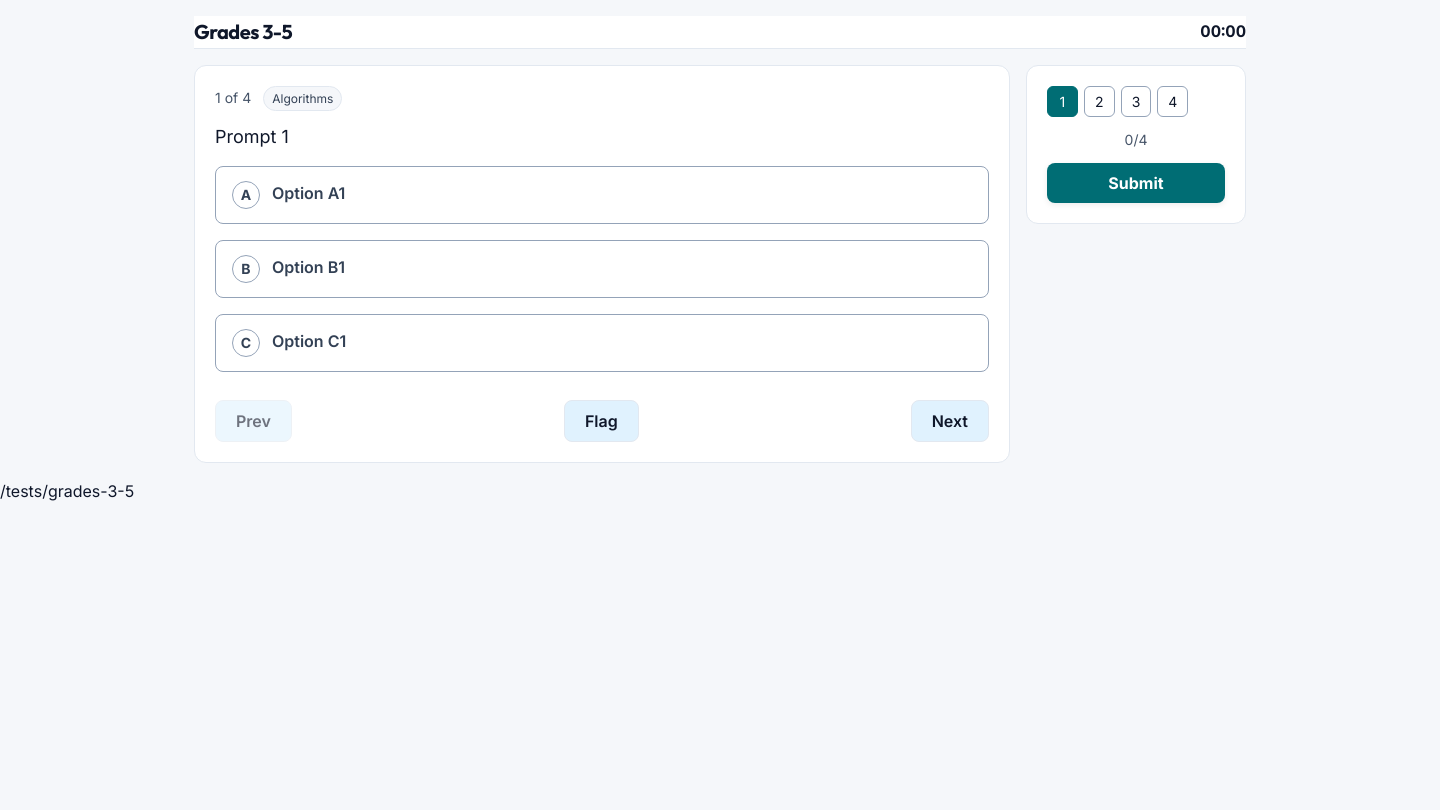
Test: TakeTest › submit › shows the expired line when the submit is refused as late
Expected: the text "Prompt 1" is shown, [215,126,289,147]
Step 1. Click the button "Submit" → coordinates (1136, 183), box [1047,163,1225,203]
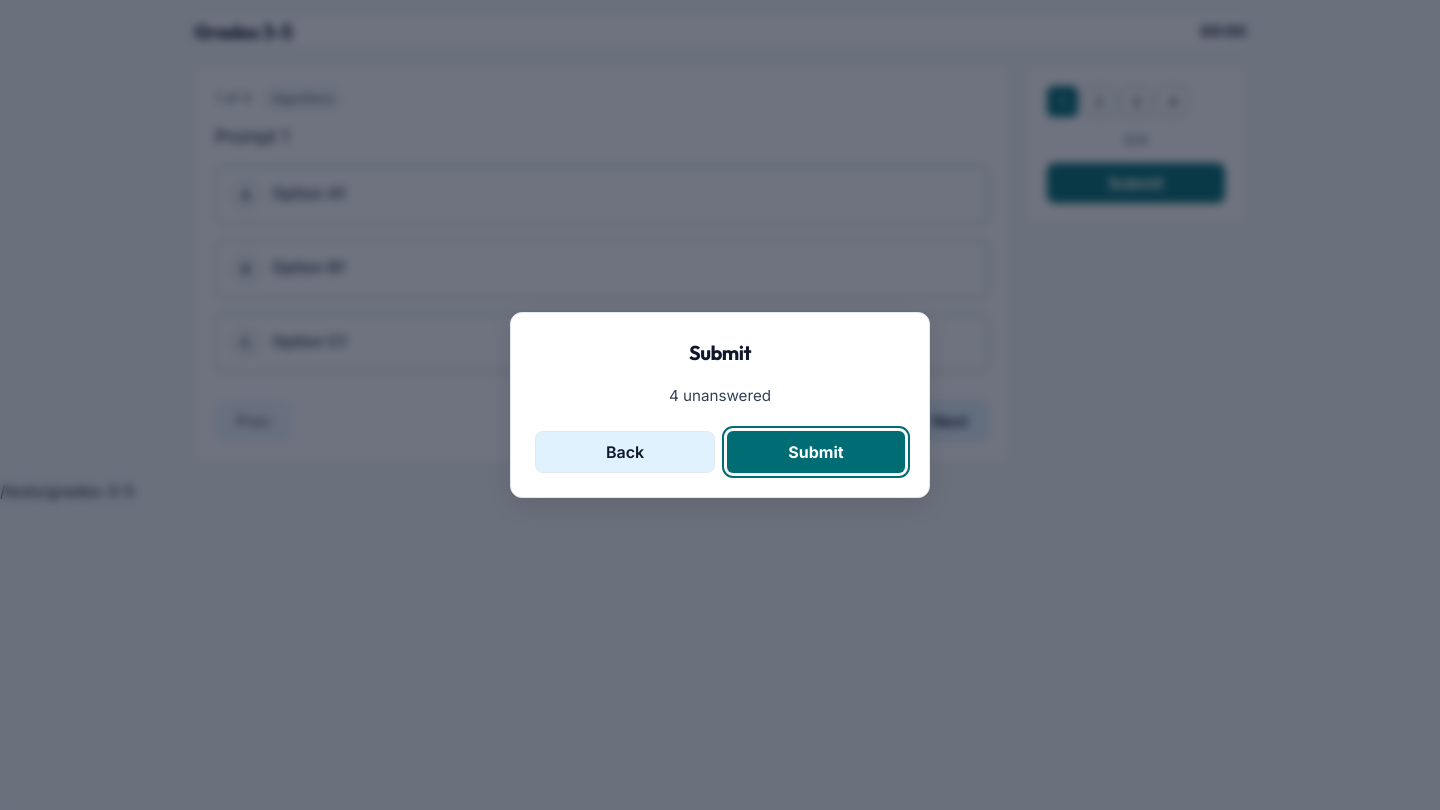
Step 2. Click the button "Submit" → coordinates (816, 452), box [727,431,905,473]
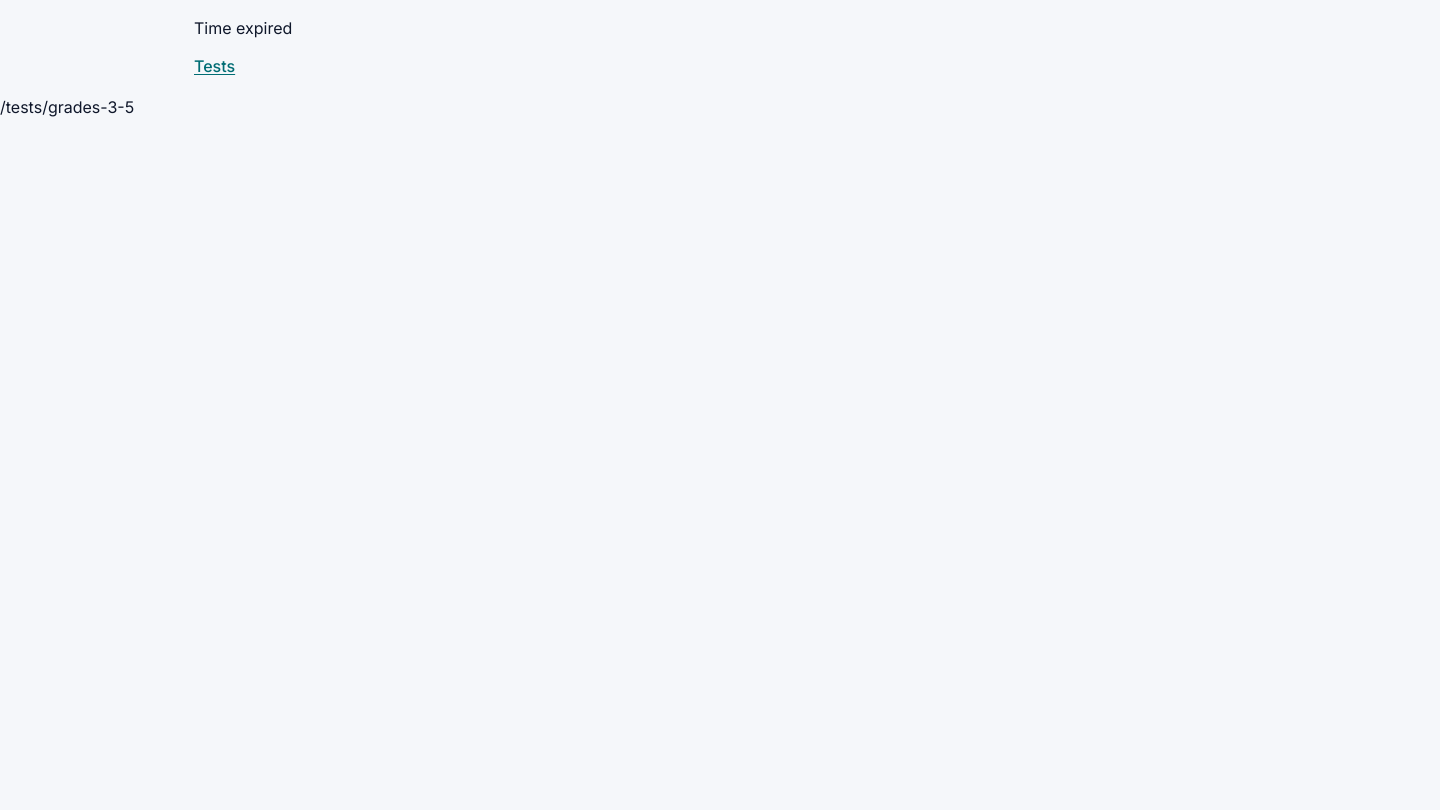
Result: the text "Time expired" is shown at [194,18,292,38]
Result: the link "Tests" is shown at [194,56,235,76]
